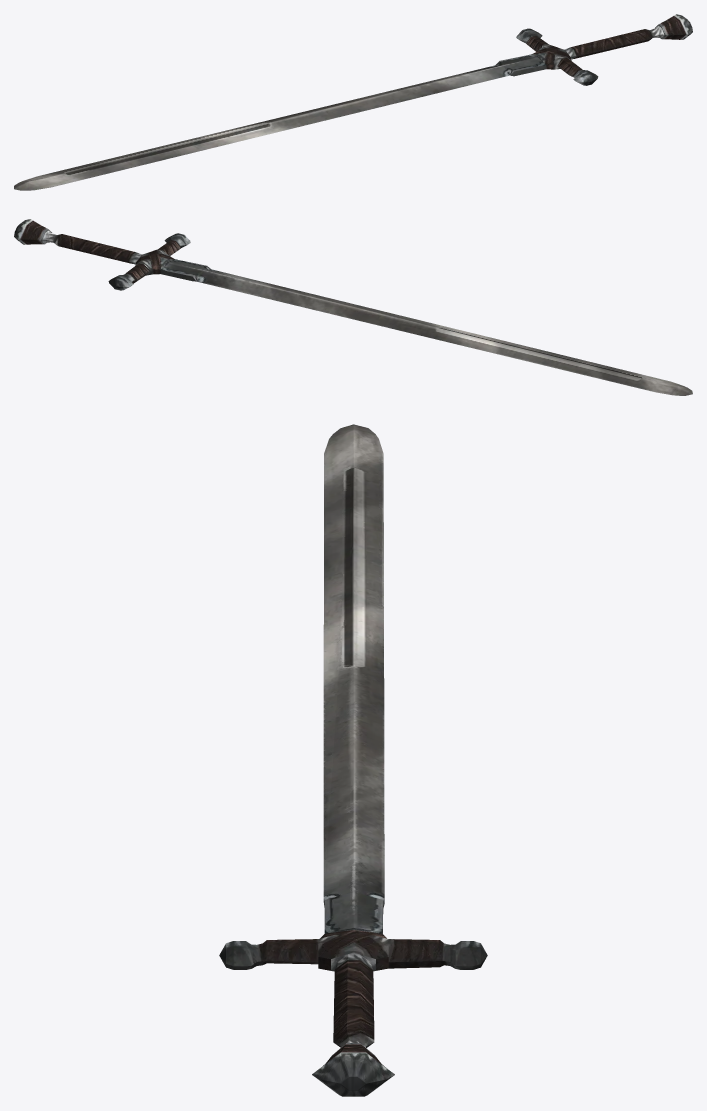
Rendered from KM_ITMW_2H_LEATHERSWORD_01.glb.
3 views of the same model, one above another, from view 1: azimuth 30°, elevation 25°; view 2: azimuth 150°, elevation 25°; view 3: azimuth 270°, elevation 25° (orthographic). The views are drawn at different scales.
Visible parts, largest first — view 1: KM_ITMW_2H_LEATHERSWORD_01; view 2: KM_ITMW_2H_LEATHERSWORD_01; view 3: KM_ITMW_2H_LEATHERSWORD_01.
Boxes of the visible parts, x1,y1,x2,y2 form: KM_ITMW_2H_LEATHERSWORD_01: [14, 14, 692, 190]; KM_ITMW_2H_LEATHERSWORD_01: [14, 219, 692, 395]; KM_ITMW_2H_LEATHERSWORD_01: [219, 424, 487, 1096].
Size of the model in its own units: 1.35 by 0.0396 by 0.232.
2 materials, 2 textured.
